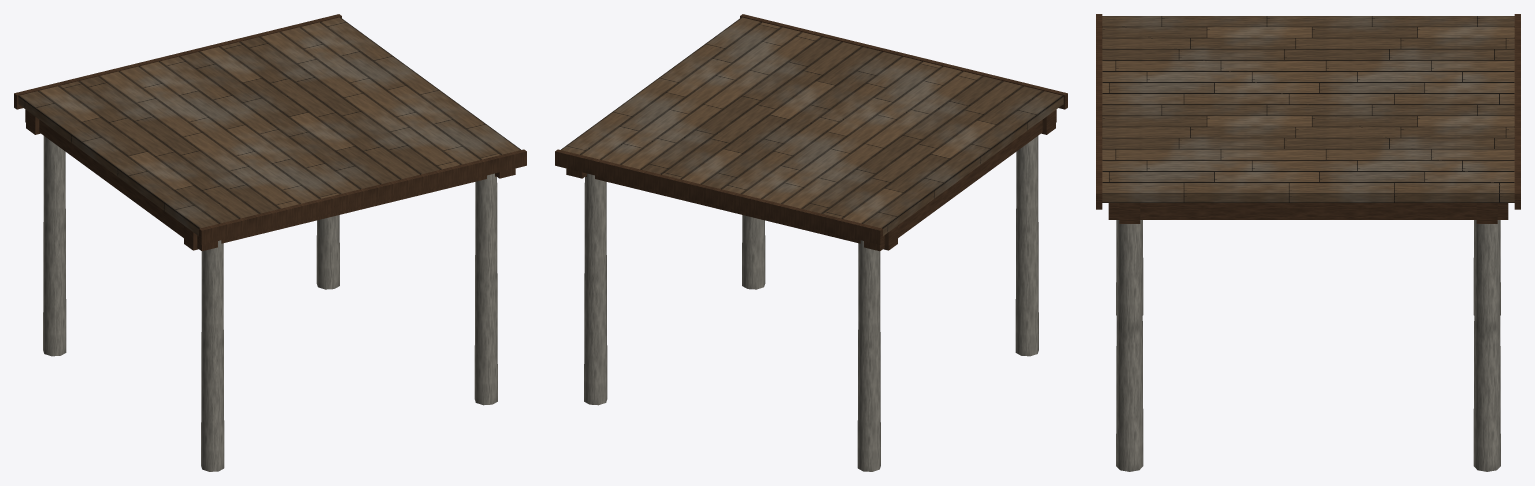
Rendered from SM_Art_Pier_400x400x100_P300.gltf.
The picture shows the model from 3 angles, left to right: view 1: azimuth 30°, elevation 25°; view 2: azimuth 150°, elevation 25°; view 3: azimuth 270°, elevation 25°; orthographic projection. The views are drawn at different scales.
Visible parts, largest first — view 1: SM_Art_Pier_400x400x100_P300; view 2: SM_Art_Pier_400x400x100_P300; view 3: SM_Art_Pier_400x400x100_P300.
Part boxes in pixels (x1=…): SM_Art_Pier_400x400x100_P300: x1=14, y1=14, x2=526, y2=471; SM_Art_Pier_400x400x100_P300: x1=555, y1=14, x2=1067, y2=471; SM_Art_Pier_400x400x100_P300: x1=1096, y1=14, x2=1520, y2=471.
Bounding box in the file's own units: 4.04 × 3.01 × 4.04.
3 materials, 3 textured.
